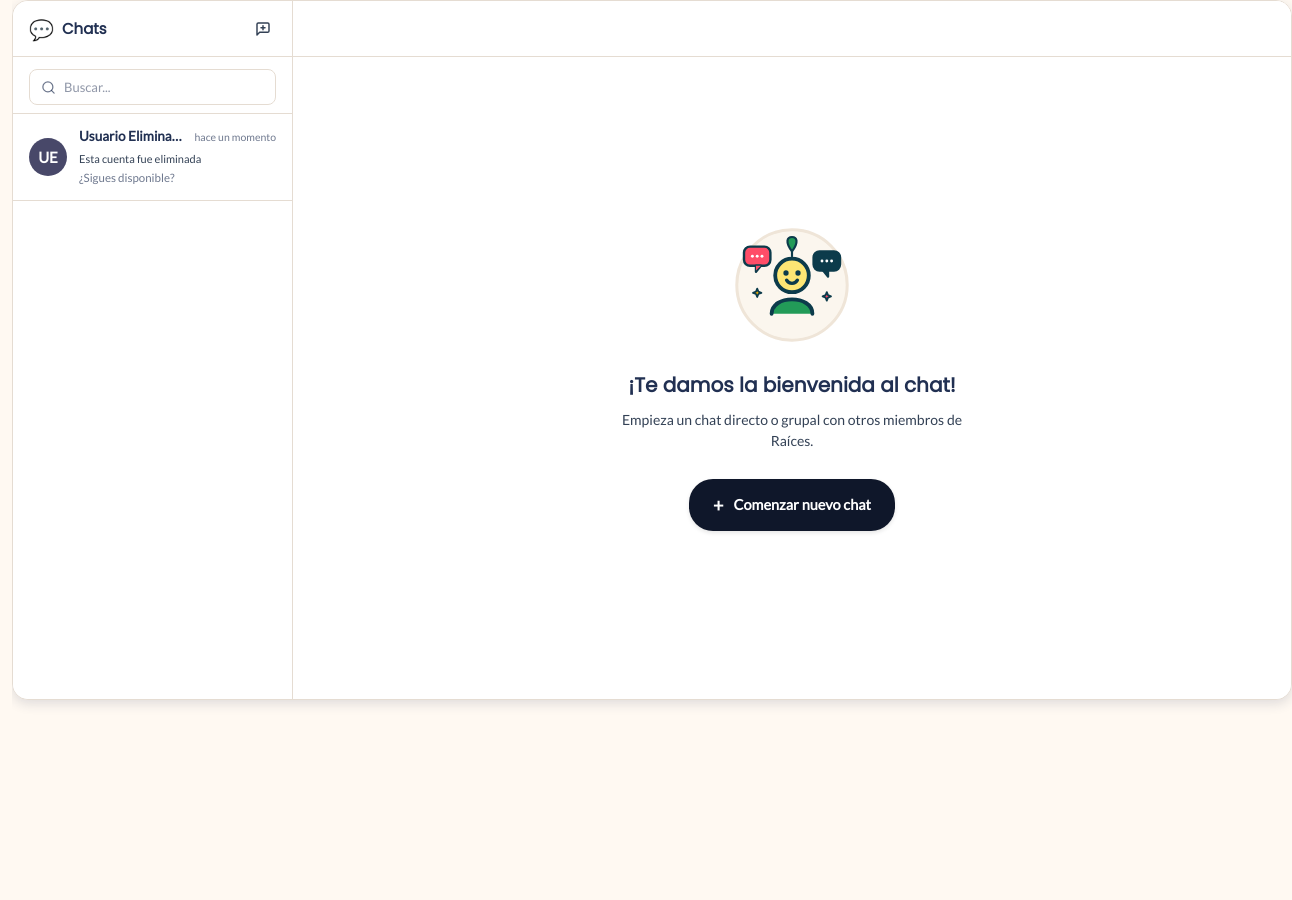
Test: DirectMessages — conversaciones con usuario fantasma › deshabilita el input y cambia el placeholder al abrir el chat
Step 1. Click the text "Usuario Eliminado" → x=133, y=137, box [79,126,186,148]
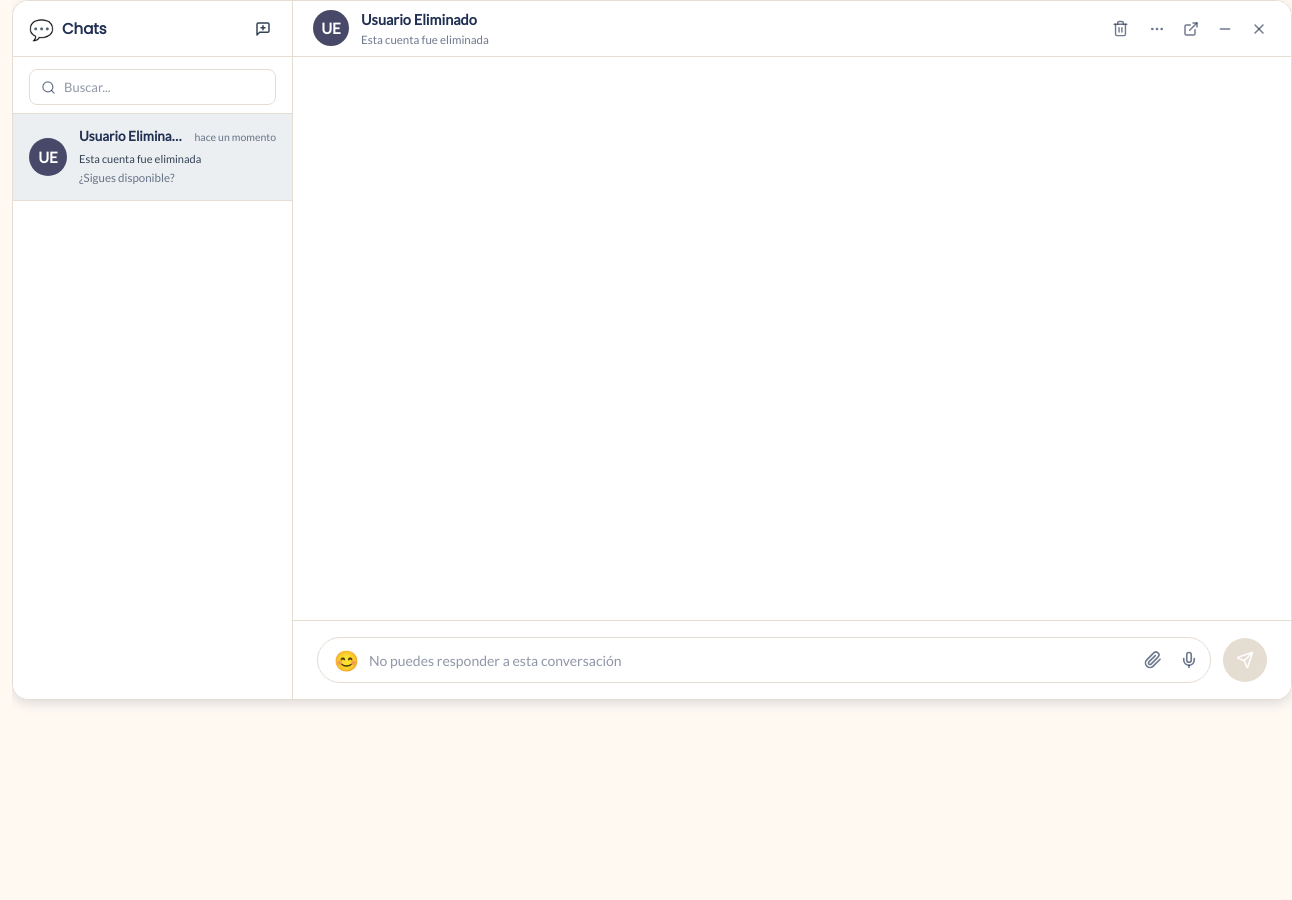
Result: the field with placeholder "No puedes responder a esta conversación" is disabled at [369,638,1130,682]
